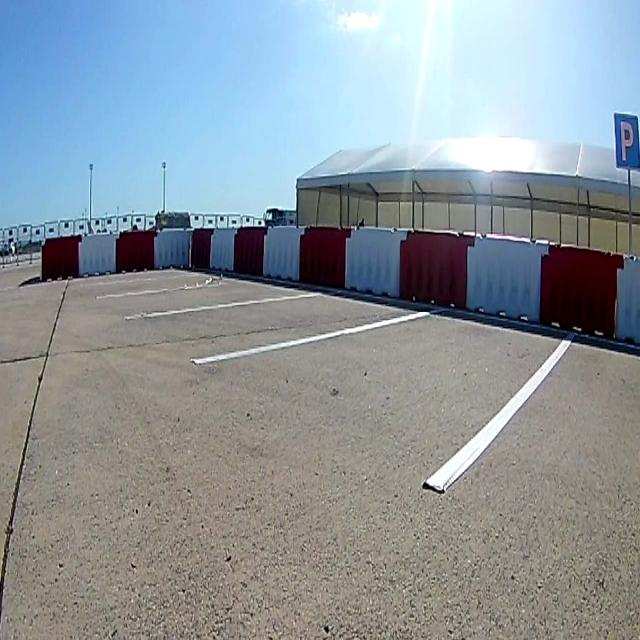park: (614, 113, 640, 171)
